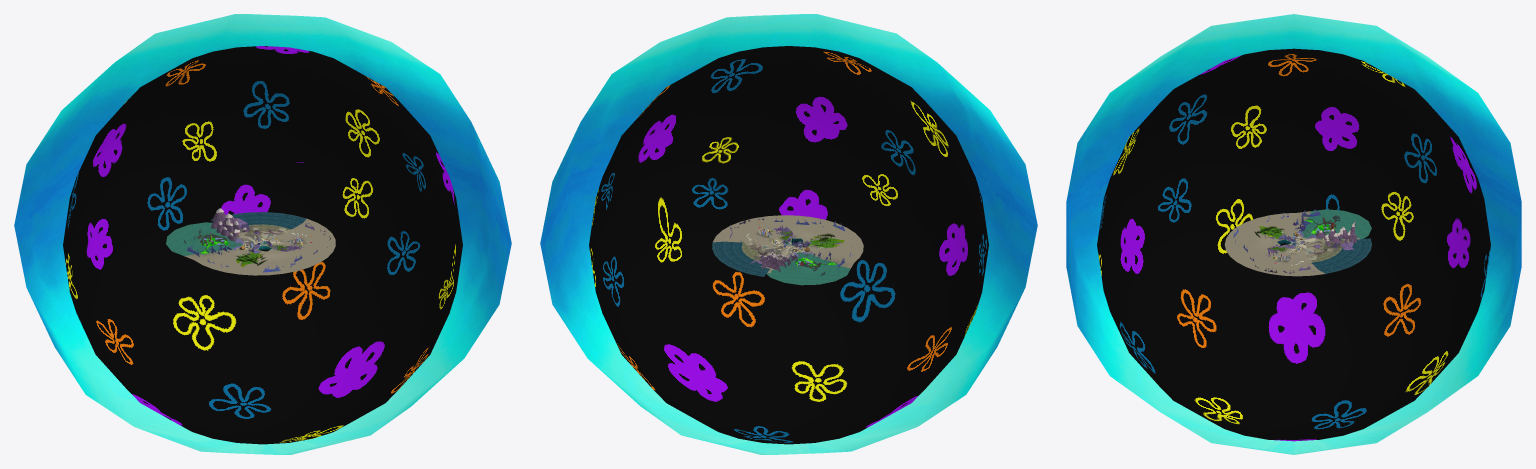
File: bikini.glb
3 views of the same model, side by side, from view 1: azimuth 30°, elevation 25°; view 2: azimuth 150°, elevation 25°; view 3: azimuth 270°, elevation 25° (orthographic).
Visible parts, largest first — view 1: mesh_jf_sky_flowers, mesh_jf_sky_color, ground_day3, mesh_dutch_ground, lagoon_water, rock_sand_mtn_purple; view 2: mesh_jf_sky_flowers, mesh_jf_sky_color, ground_day3, mesh_dutch_ground, lagoon_water; view 3: mesh_jf_sky_flowers, mesh_jf_sky_color, ground_day3, mesh_dutch_ground, lagoon_water.
Part boxes in pixels (bbox=[...]): mesh_jf_sky_flowers: bbox=[63, 46, 462, 444]; mesh_jf_sky_color: bbox=[14, 14, 511, 454]; ground_day3: bbox=[184, 218, 335, 275]; mesh_dutch_ground: bbox=[166, 222, 236, 255]; lagoon_water: bbox=[211, 212, 306, 229]; rock_sand_mtn_purple: bbox=[210, 212, 248, 241]; mesh_jf_sky_flowers: bbox=[589, 46, 988, 444]; mesh_jf_sky_color: bbox=[540, 14, 1037, 454]; ground_day3: bbox=[713, 215, 863, 272]; mesh_dutch_ground: bbox=[766, 255, 850, 285]; lagoon_water: bbox=[712, 234, 782, 276]; mesh_jf_sky_flowers: bbox=[1097, 48, 1490, 441]; mesh_jf_sky_color: bbox=[1066, 14, 1521, 454]; ground_day3: bbox=[1224, 211, 1359, 276]; mesh_dutch_ground: bbox=[1304, 209, 1371, 239]; lagoon_water: bbox=[1276, 238, 1371, 273].
Size of the model in its own units: 24.15 by 20.94 by 22.05.
100 materials, 99 textured.
